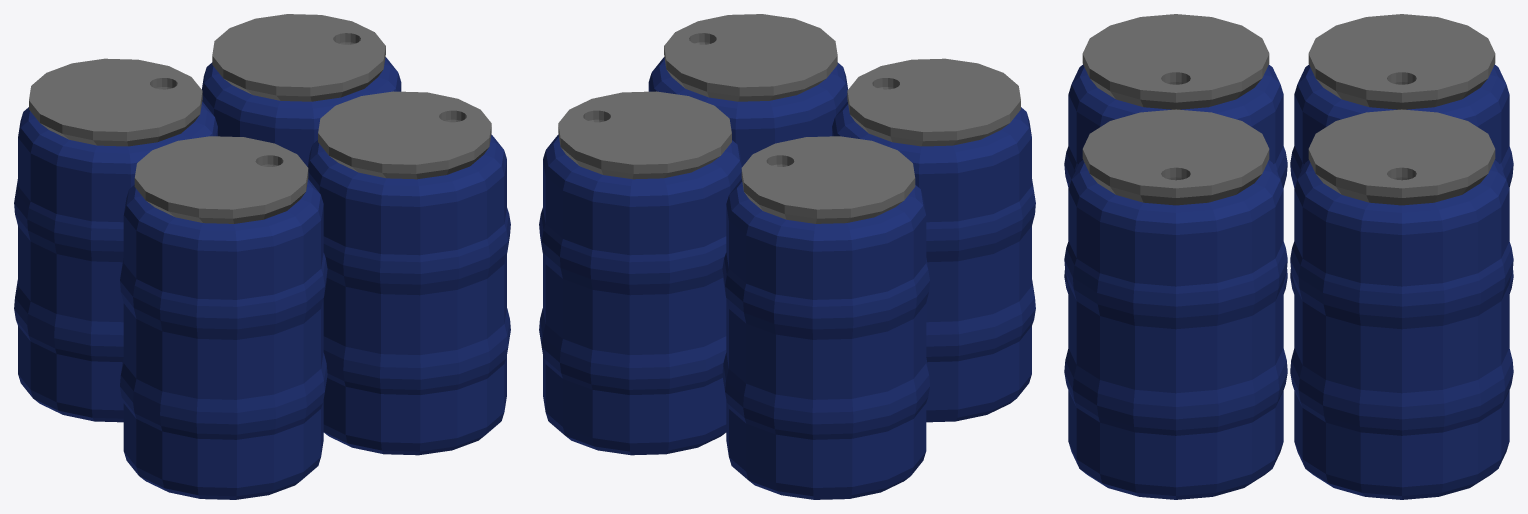
File: Keg_StackA.fbx
3 renders of one model, left to right at view 1: azimuth 30°, elevation 25°; view 2: azimuth 150°, elevation 25°; view 3: azimuth 270°, elevation 25°, orthographic. The views are drawn at different scales.
Visible parts, largest first — view 1: Keg_StackB; view 2: Keg_StackB; view 3: Keg_StackB.
Part boxes in pixels (left/top/right/bottom): Keg_StackB: left=14, top=14, right=510, bottom=499; Keg_StackB: left=539, top=14, right=1035, bottom=499; Keg_StackB: left=1064, top=14, right=1513, bottom=499.
Size of the model in its own units: 418 by 320 by 418.
